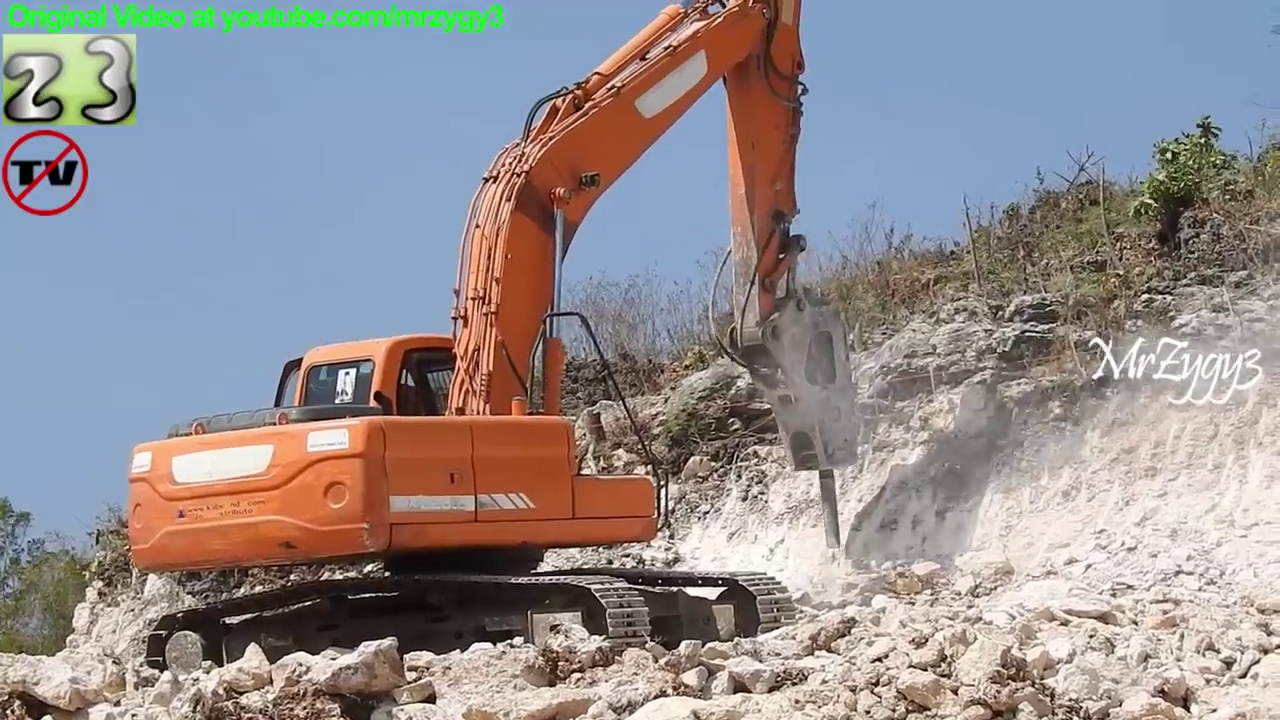excavator: (123, 1, 872, 682)
